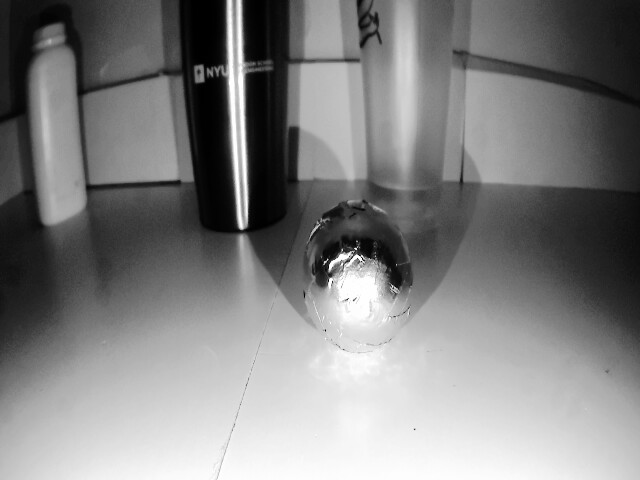black: (285, 198, 421, 364)
